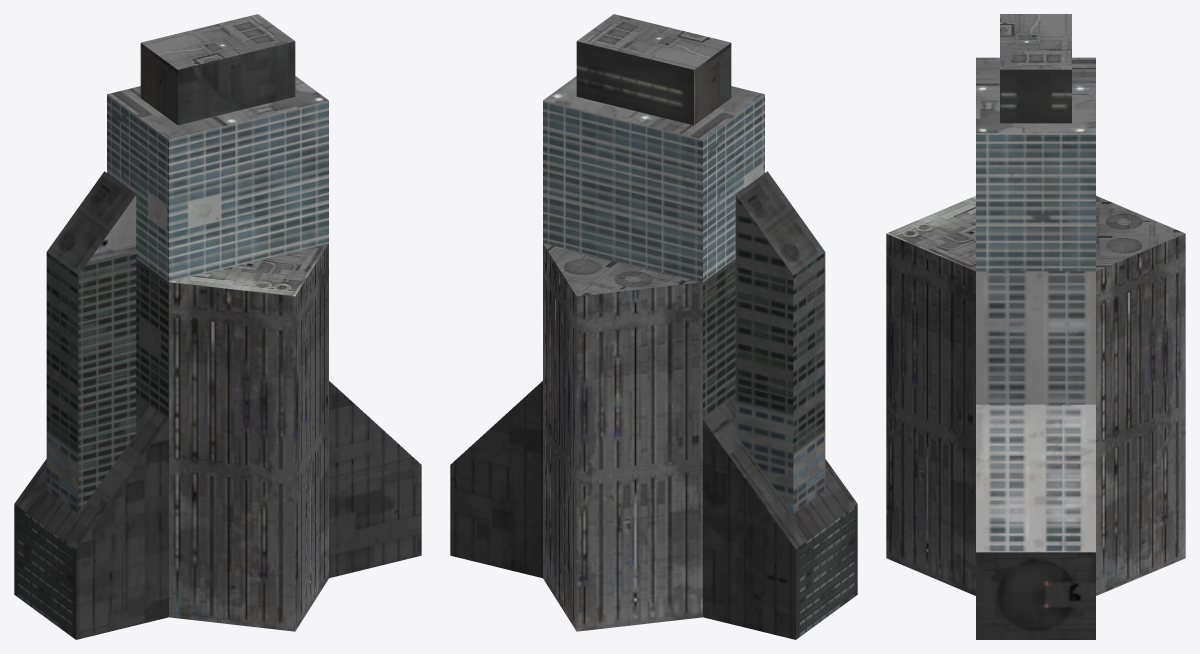
Rendered from scifi_building_48.obj.
3 renders of one model, left to right at view 1: azimuth 30°, elevation 25°; view 2: azimuth 150°, elevation 25°; view 3: azimuth 270°, elevation 25°, orthographic. The views are drawn at different scales.
Visible parts, largest first — view 1: building_48; view 2: building_48; view 3: building_48.
Part boxes in pixels (x1,y1,x2,y2): building_48: (14, 14, 421, 639); building_48: (450, 14, 857, 639); building_48: (886, 14, 1185, 639).
Bounding box in the file's own units: 106 × 156 × 81.89.
1 material, 1 textured.
